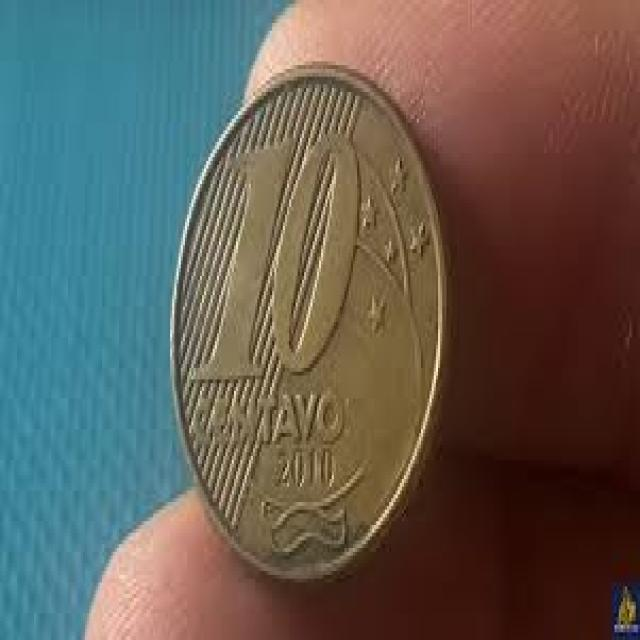10 cent: (170, 63, 434, 582)
